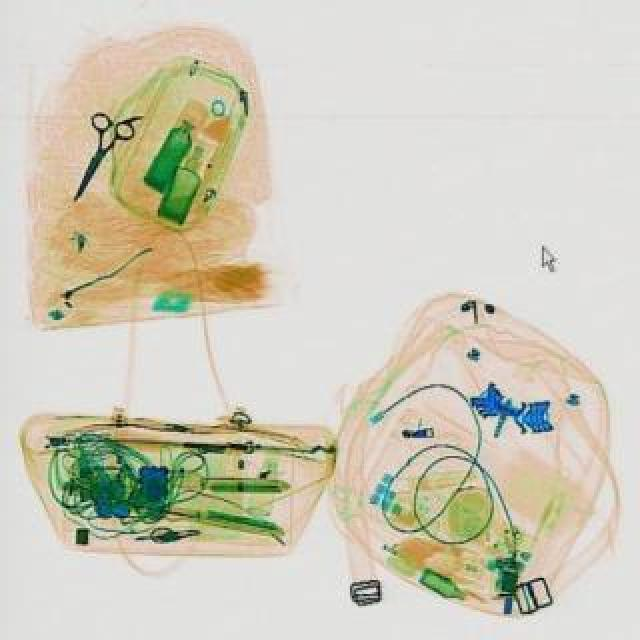pliers: (50, 108, 138, 210)
